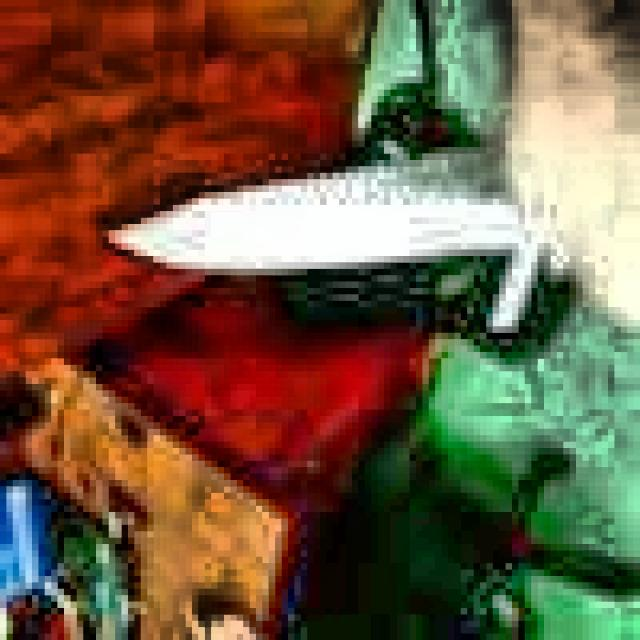knife: (115, 144, 581, 328)
